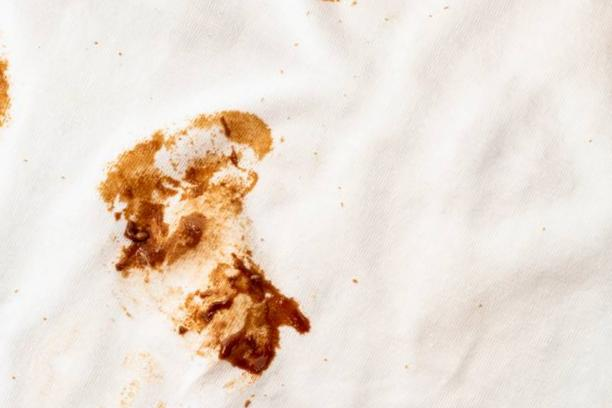stain: (91, 107, 315, 385), (1, 52, 20, 133)
